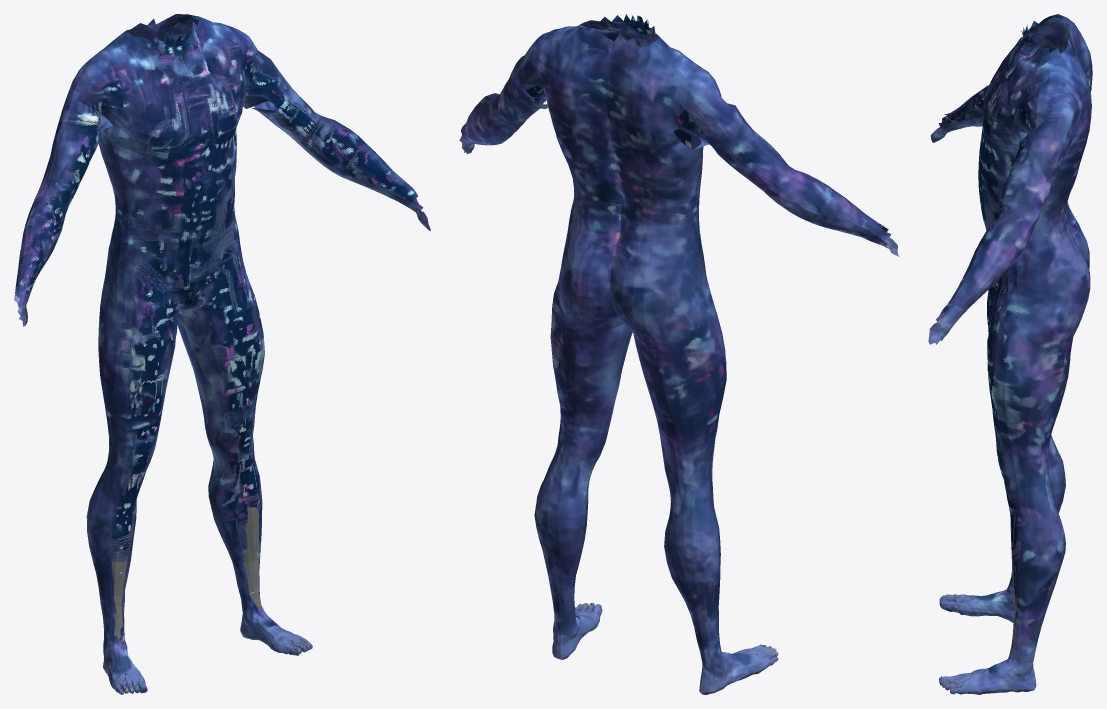
File: ewm_t2glitch_outfit.glb
3 views of the same model, side by side, from view 1: azimuth 30°, elevation 25°; view 2: azimuth 150°, elevation 25°; view 3: azimuth 270°, elevation 25° (orthographic). The views are drawn at different scales.
Parts seen in each view (by area): view 1: ewm_t2glitch_outfit; view 2: ewm_t2glitch_outfit; view 3: ewm_t2glitch_outfit.
Boxes of the visible parts, left/top/right/bottom form: ewm_t2glitch_outfit: left=14, top=14, right=430, bottom=694; ewm_t2glitch_outfit: left=459, top=14, right=899, bottom=694; ewm_t2glitch_outfit: left=928, top=14, right=1092, bottom=694.
Size of the model in its own units: 1.1 by 1.6 by 0.38.
1 material, 1 textured.
